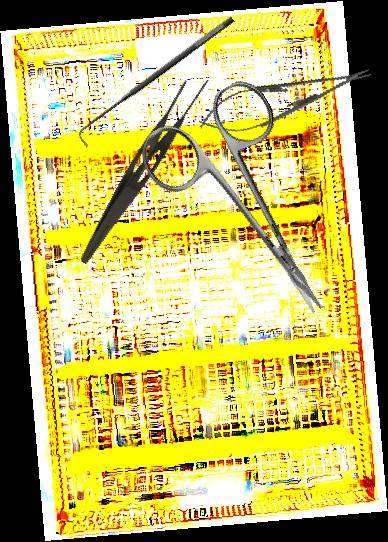Dressing Forceps: (78, 65, 212, 277)
Hook Surgical: (72, 14, 244, 148)
Iris Scissors: (130, 72, 374, 350)
Needle Holder: (193, 52, 377, 146)
